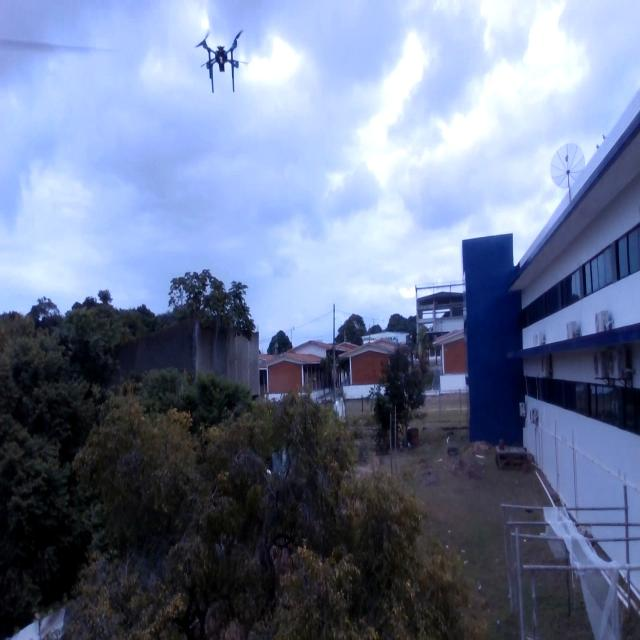-uav-: (188, 21, 257, 105)
